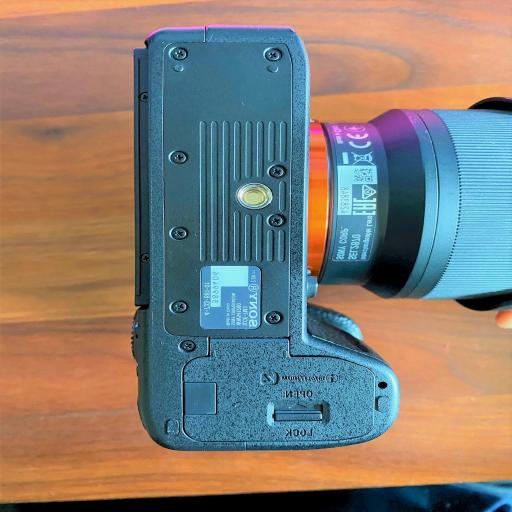Phillips: (264, 213, 292, 231), (164, 298, 189, 316), (262, 309, 286, 327), (261, 46, 286, 62), (174, 339, 196, 355), (168, 149, 189, 165), (171, 226, 193, 241), (268, 163, 288, 179), (173, 46, 192, 62), (138, 91, 153, 105), (141, 252, 154, 264)
